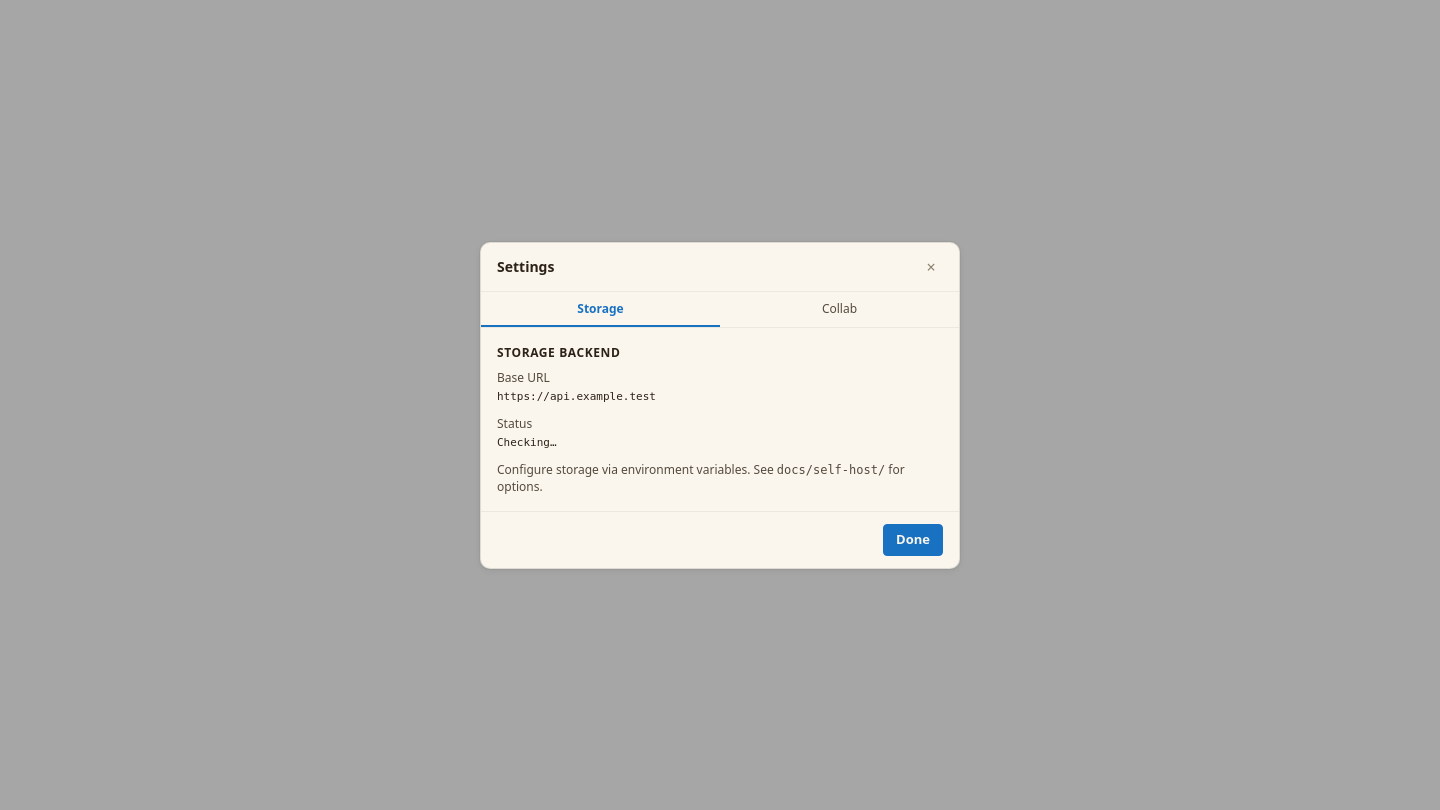
SettingsDialog — StorageTab › checks real reachability and reports Connected on a healthy backend
Click the button with test id "settings-tab-storage": (600, 309) top-left (481, 292), bottom-right (720, 326)
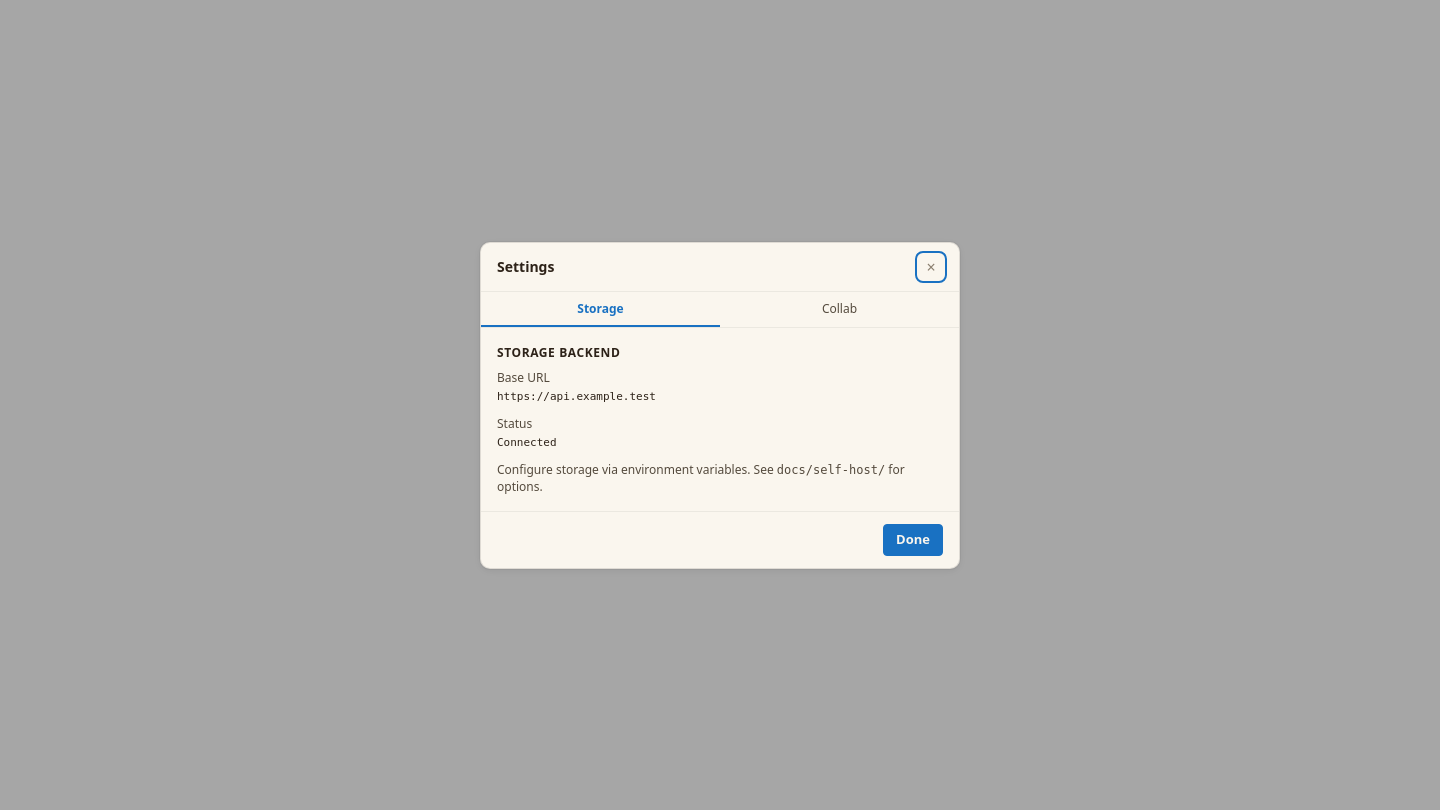
Expected: the text "Connected" is shown, top-left (497, 436), bottom-right (557, 448)
